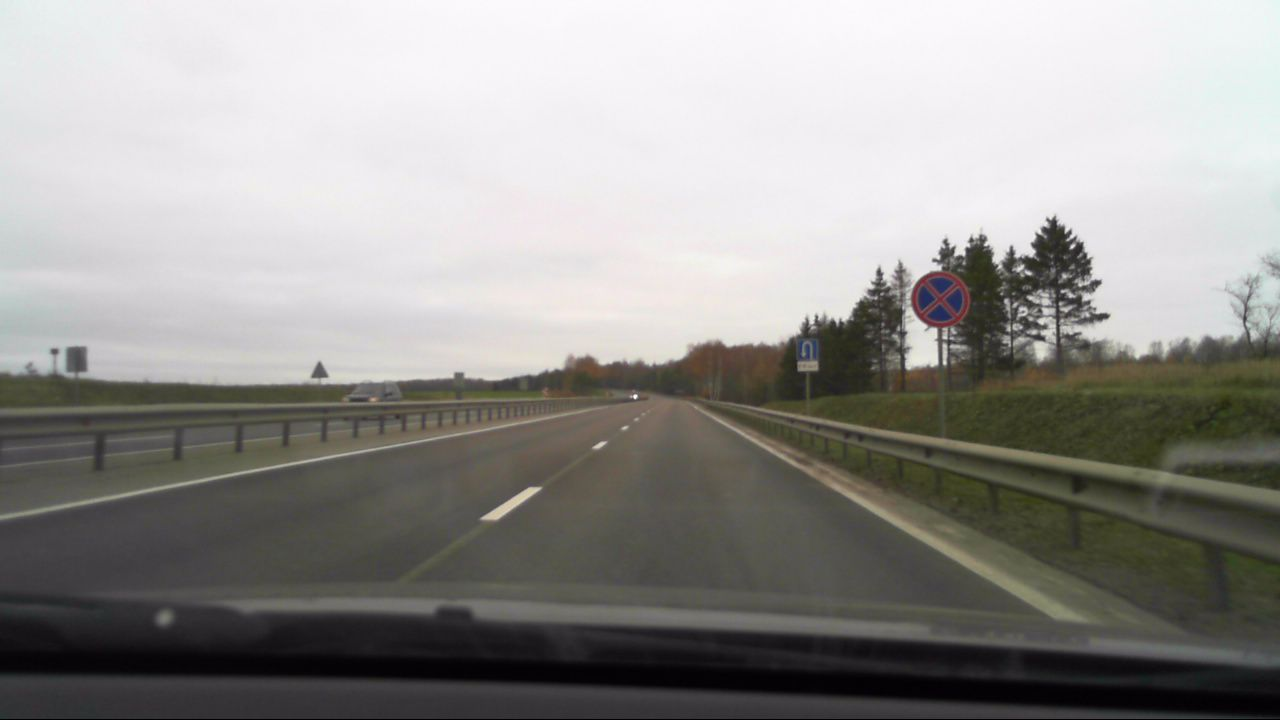No Parking: (910, 268, 971, 327)
U-turn: (797, 339, 818, 360)
